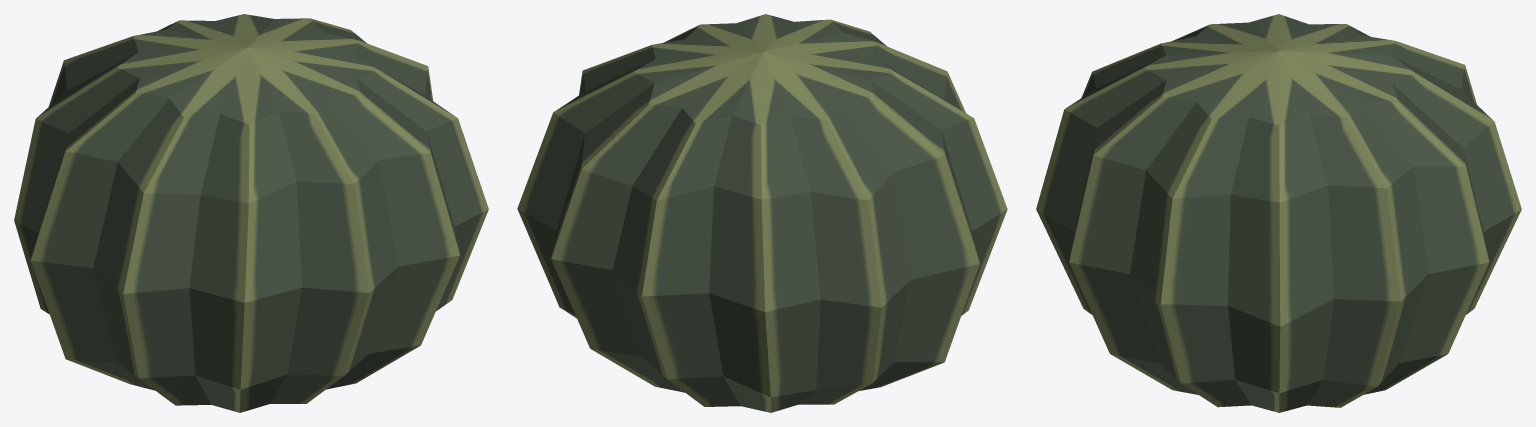
Rendered from SM_Env_Cactus_01.fbx.
3 views of the same model, side by side, from view 1: azimuth 30°, elevation 25°; view 2: azimuth 150°, elevation 25°; view 3: azimuth 270°, elevation 25° (orthographic).
Parts seen in each view (by area): view 1: SM_Env_Cactus_01; view 2: SM_Env_Cactus_01; view 3: SM_Env_Cactus_01.
Part boxes in pixels (x1,y1,x2,y2): SM_Env_Cactus_01: (14, 14, 488, 412); SM_Env_Cactus_01: (517, 14, 1007, 412); SM_Env_Cactus_01: (1036, 14, 1521, 412).
Bounding box in the file's own units: 77.66 × 55.84 × 78.51.
